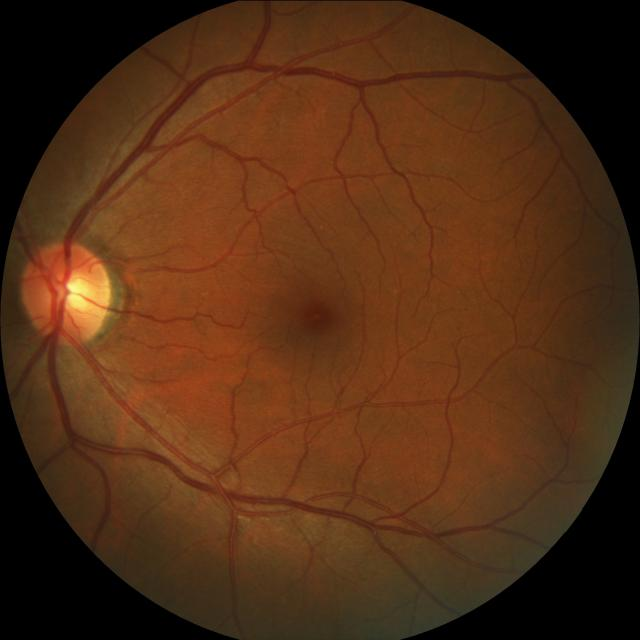OC: (48, 270, 94, 314)
OD: (20, 238, 111, 345)
